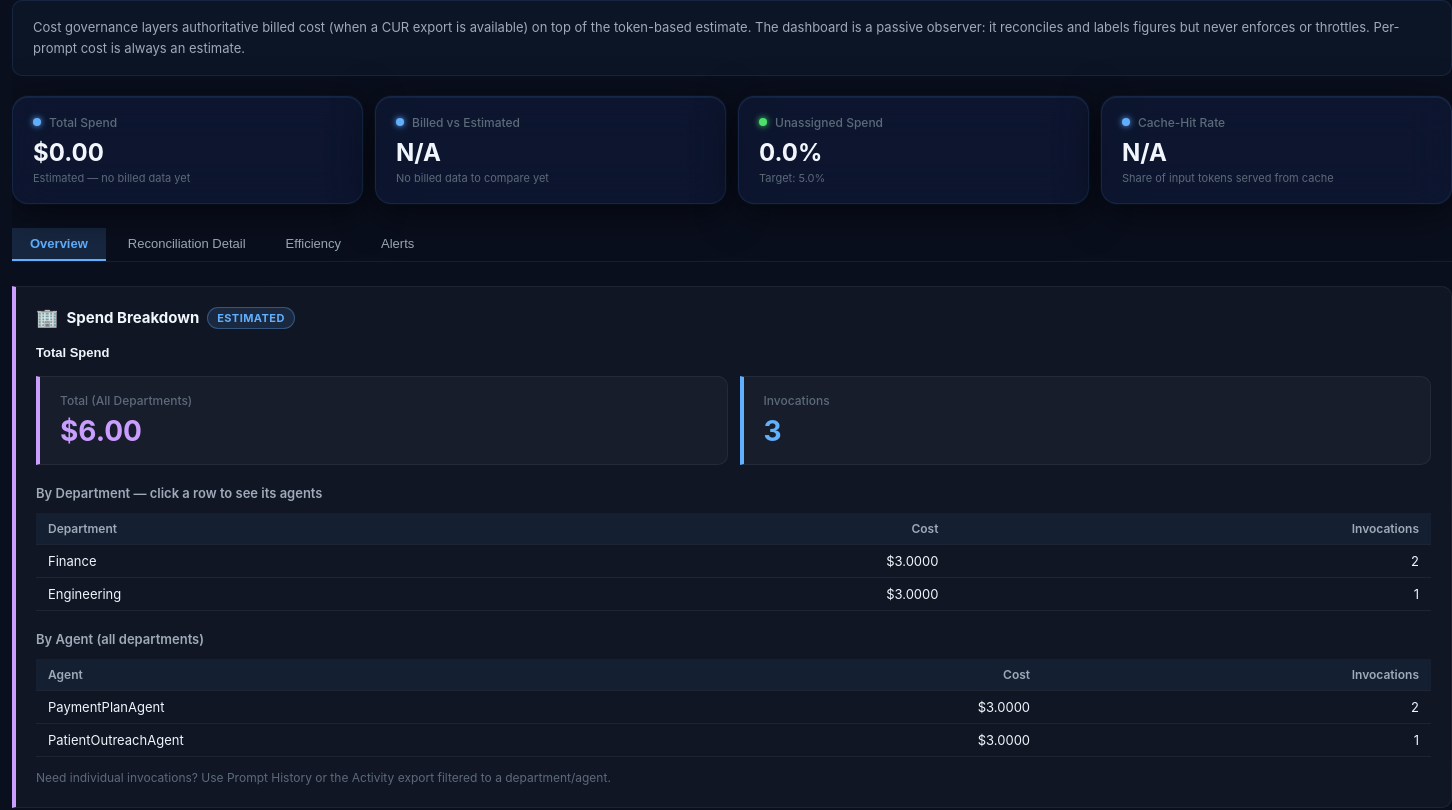
CostGovernanceTab — segmented navigation › switches to Alerts
The width and height of the screenshot is (1452, 810).
Click the button with test id "segment-alerts": (398, 244) [363,228,432,261]
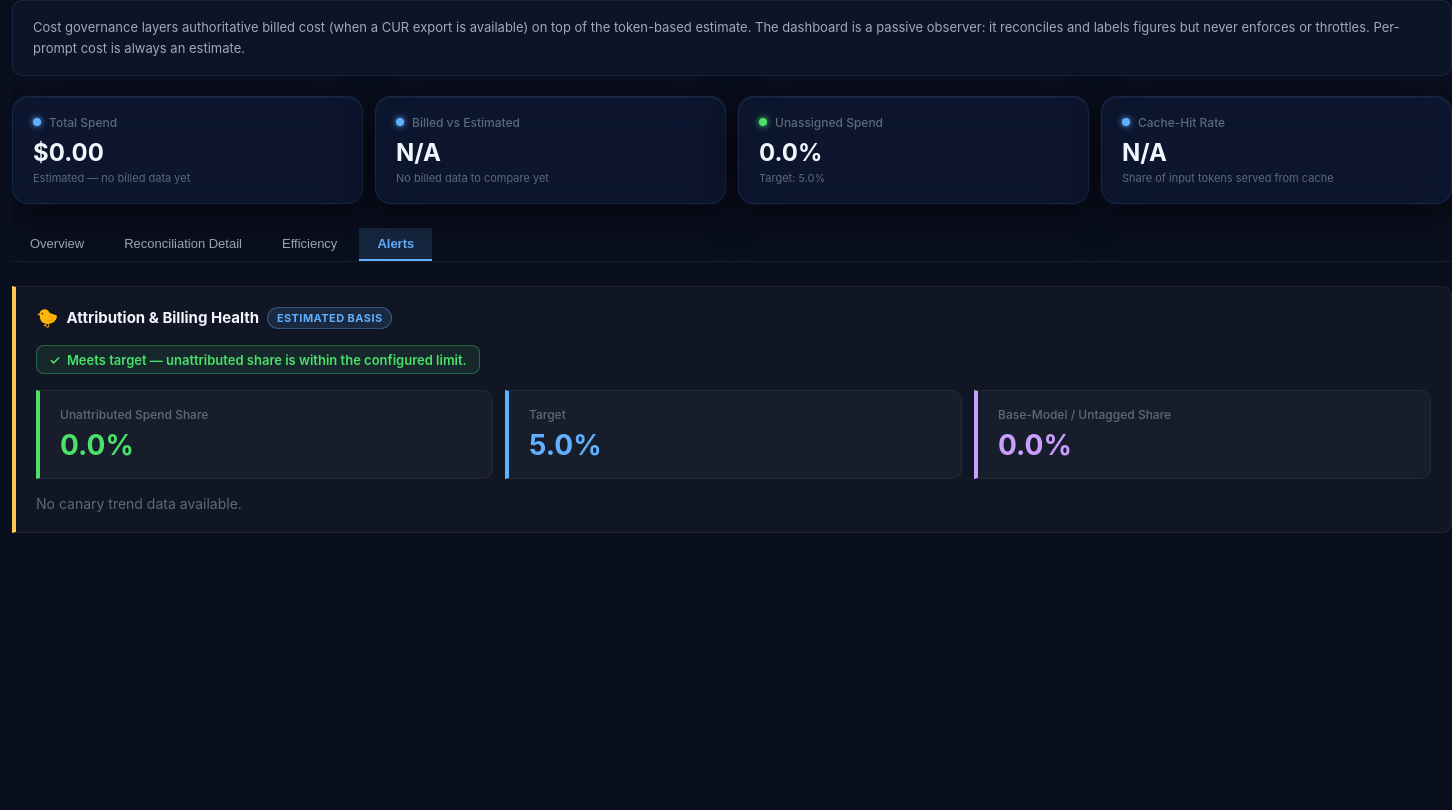
Now the element with test id "segment-panel-alerts" is shown, box [12,286,1451,533]
Now the element with test id "canary-meets-indicator" is shown, box [36,345,480,374]
